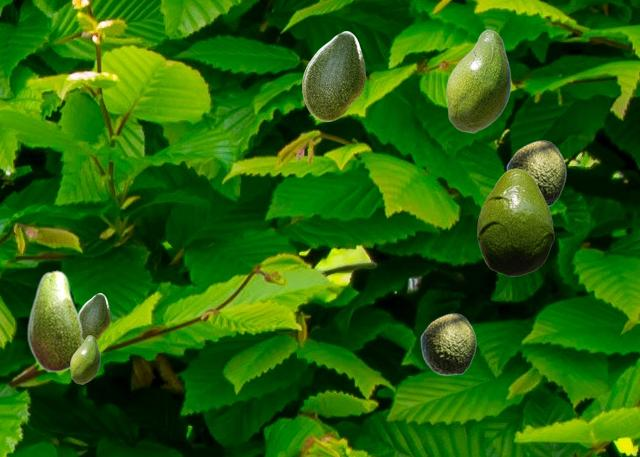avocado: (477, 168, 553, 275), (446, 29, 510, 132), (27, 269, 82, 372), (302, 31, 364, 120), (506, 140, 565, 206), (420, 313, 475, 374), (78, 293, 109, 340), (70, 335, 99, 383)
